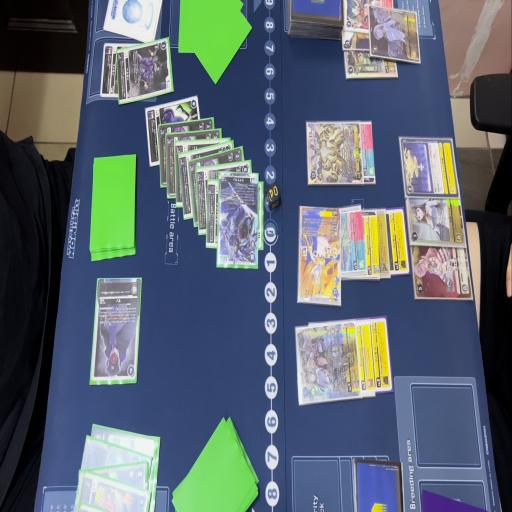card: (88, 275, 146, 387), (294, 316, 358, 414), (295, 203, 341, 307), (304, 118, 362, 196), (179, 141, 234, 220), (408, 239, 478, 301), (217, 171, 259, 271), (174, 136, 230, 210), (164, 130, 222, 201), (190, 144, 242, 223), (197, 161, 252, 235), (398, 135, 462, 196), (144, 95, 198, 167), (158, 118, 214, 187), (116, 40, 174, 104), (405, 190, 466, 249), (82, 430, 149, 478), (368, 8, 421, 64), (76, 474, 150, 512), (80, 459, 150, 497), (83, 425, 165, 457), (339, 46, 399, 82), (340, 206, 366, 283), (372, 311, 394, 397), (342, 0, 395, 34), (388, 203, 407, 284), (358, 316, 374, 404), (362, 209, 379, 288), (205, 179, 223, 251), (362, 116, 378, 192), (376, 205, 390, 288), (100, 42, 118, 104), (338, 30, 374, 54)
